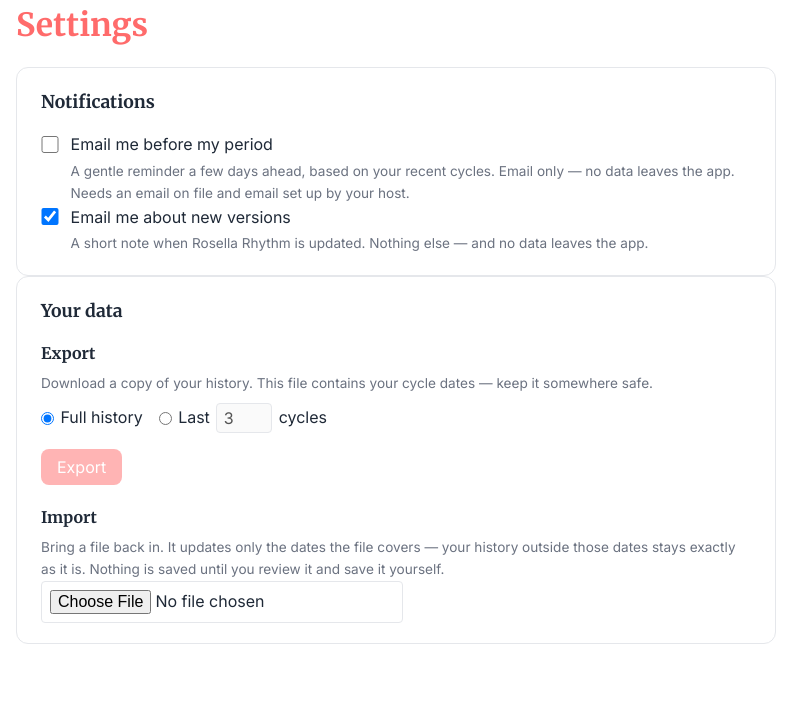
Test: SettingsPage › turning reminders on PUTs the opt-in and reveals the lead-days input
Click the checkbox labelled "before my period" at coordinates (50, 144), box [41,136,59,153]
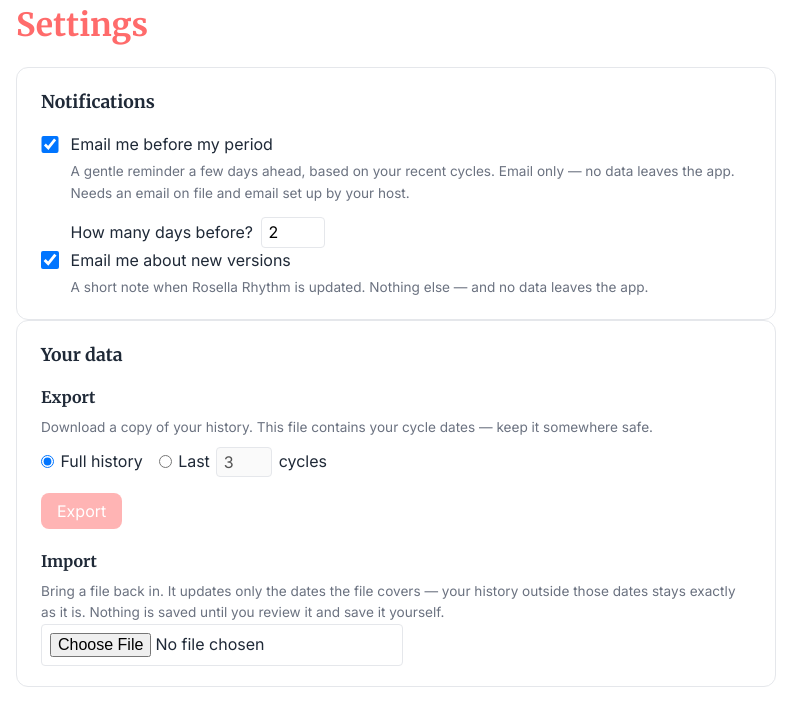
Expected: the number field labelled "How many days before?" is shown, [261,217,325,248]
